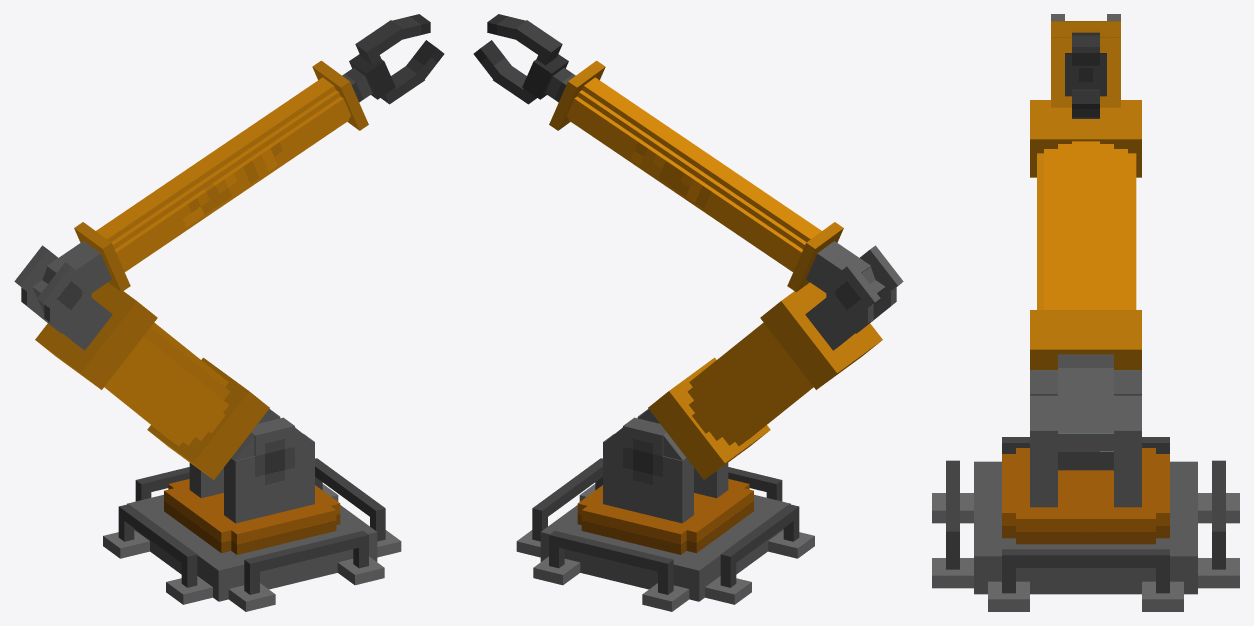
Rendered from robotic_arm.glb.
The picture shows the model from 3 angles, left to right: view 1: azimuth 30°, elevation 25°; view 2: azimuth 150°, elevation 25°; view 3: azimuth 270°, elevation 25°; orthographic projection. The views are drawn at different scales.
Parts seen in each view (by area): view 1: ed7dd5f0-c84b-96db-9e2d-be74453475f0_85, bf3b2753-134d-96d9-0a7a-4522231bf62c_29, 4066199f-02e0-932e-ad99-a19e7ac9ab1e_30, 225370fd-2aef-8ddd-597a-b3b095fe1d54_61, 3e71b660-b7e1-9f17-2043-0387880b704e_41, 57715747-db47-2d3b-6534-c7e8d5849a1b_84, 5269587a-8c7b-657e-d8dd-1f1d476868b8_49, 31f98e8d-f9ae-d522-5a96-47a43d8a7dc9_25, 93594bc2-2719-0e52-bed6-998e239a4943_44, 9afe81e2-e40a-ed8b-c7d3-e492ab492504_48, 7a19978f-e6b7-6603-5e67-01e708e58791_63, d332fa2d-546d-baee-27d2-611187f77992_36 (+25 smaller); view 2: ed7dd5f0-c84b-96db-9e2d-be74453475f0_85, b7e8eec0-5fb6-71fa-54fd-7f425dd8f181_28, 7688cb4f-a22a-53bc-e154-fbcb70b5f547_60, 4066199f-02e0-932e-ad99-a19e7ac9ab1e_30, 3e71b660-b7e1-9f17-2043-0387880b704e_41, 57715747-db47-2d3b-6534-c7e8d5849a1b_84, 5269587a-8c7b-657e-d8dd-1f1d476868b8_49, 31f98e8d-f9ae-d522-5a96-47a43d8a7dc9_25, 74f13842-3d2c-e4e8-0362-a20dec92ded2_45, 9afe81e2-e40a-ed8b-c7d3-e492ab492504_48, 7a19978f-e6b7-6603-5e67-01e708e58791_63, 5977282c-918c-d930-aba6-6fca59b7528c_40 (+25 smaller); view 3: ed7dd5f0-c84b-96db-9e2d-be74453475f0_85, 57715747-db47-2d3b-6534-c7e8d5849a1b_84, 5269587a-8c7b-657e-d8dd-1f1d476868b8_49, 3e71b660-b7e1-9f17-2043-0387880b704e_41, a63851c0-fdf8-5377-aedc-7993c49235ee_42, f0fa7784-e377-6a0e-1285-6437abd06d1b_47, 9afe81e2-e40a-ed8b-c7d3-e492ab492504_48, 4b586645-1a5e-889d-0b3f-f81bdd3c1efd_62, 21f3cca6-f026-9c7d-83c2-8842c7c30a40_51, 4e33c95f-f3f3-4307-173a-014842889009_72, 0a415039-4f03-2711-c8eb-b6a624d96d81_26, 7688cb4f-a22a-53bc-e154-fbcb70b5f547_60 (+25 smaller).
Part boxes in pixels (left/top/right/bottom): ed7dd5f0-c84b-96db-9e2d-be74453475f0_85: left=127, top=494, right=377, bottom=601; bf3b2753-134d-96d9-0a7a-4522231bf62c_29: left=115, top=96, right=350, bottom=269; 4066199f-02e0-932e-ad99-a19e7ac9ab1e_30: left=96, top=77, right=348, bottom=271; 225370fd-2aef-8ddd-597a-b3b095fe1d54_61: left=224, top=433, right=314, bottom=523; 3e71b660-b7e1-9f17-2043-0387880b704e_41: left=35, top=282, right=157, bottom=389; 57715747-db47-2d3b-6534-c7e8d5849a1b_84: left=168, top=479, right=336, bottom=554; 5269587a-8c7b-657e-d8dd-1f1d476868b8_49: left=147, top=357, right=269, bottom=479; 31f98e8d-f9ae-d522-5a96-47a43d8a7dc9_25: left=111, top=90, right=349, bottom=270; 93594bc2-2719-0e52-bed6-998e239a4943_44: left=123, top=344, right=225, bottom=433; 9afe81e2-e40a-ed8b-c7d3-e492ab492504_48: left=115, top=336, right=228, bottom=440; 7a19978f-e6b7-6603-5e67-01e708e58791_63: left=164, top=488, right=231, bottom=553; d332fa2d-546d-baee-27d2-611187f77992_36: left=52, top=294, right=112, bottom=350; ed7dd5f0-c84b-96db-9e2d-be74453475f0_85: left=540, top=494, right=790, bottom=601; b7e8eec0-5fb6-71fa-54fd-7f425dd8f181_28: left=567, top=96, right=802, bottom=269; 7688cb4f-a22a-53bc-e154-fbcb70b5f547_60: left=603, top=433, right=693, bottom=523; 4066199f-02e0-932e-ad99-a19e7ac9ab1e_30: left=569, top=77, right=821, bottom=271; 3e71b660-b7e1-9f17-2043-0387880b704e_41: left=760, top=282, right=882, bottom=389; 57715747-db47-2d3b-6534-c7e8d5849a1b_84: left=581, top=479, right=749, bottom=554; 5269587a-8c7b-657e-d8dd-1f1d476868b8_49: left=648, top=357, right=770, bottom=479; 31f98e8d-f9ae-d522-5a96-47a43d8a7dc9_25: left=568, top=90, right=806, bottom=270; 74f13842-3d2c-e4e8-0362-a20dec92ded2_45: left=692, top=344, right=794, bottom=433; 9afe81e2-e40a-ed8b-c7d3-e492ab492504_48: left=689, top=336, right=802, bottom=440; 7a19978f-e6b7-6603-5e67-01e708e58791_63: left=686, top=488, right=753, bottom=553; 5977282c-918c-d930-aba6-6fca59b7528c_40: left=805, top=293, right=865, bottom=350; ed7dd5f0-c84b-96db-9e2d-be74453475f0_85: left=974, top=461, right=1197, bottom=594; 57715747-db47-2d3b-6534-c7e8d5849a1b_84: left=1002, top=454, right=1169, bottom=538; 5269587a-8c7b-657e-d8dd-1f1d476868b8_49: left=1030, top=310, right=1141, bottom=370; 3e71b660-b7e1-9f17-2043-0387880b704e_41: left=1030, top=100, right=1141, bottom=177; a63851c0-fdf8-5377-aedc-7993c49235ee_42: left=1072, top=141, right=1099, bottom=309; f0fa7784-e377-6a0e-1285-6437abd06d1b_47: left=1058, top=144, right=1113, bottom=309; 9afe81e2-e40a-ed8b-c7d3-e492ab492504_48: left=1044, top=149, right=1127, bottom=309; 4b586645-1a5e-889d-0b3f-f81bdd3c1efd_62: left=1016, top=513, right=1155, bottom=544; 21f3cca6-f026-9c7d-83c2-8842c7c30a40_51: left=1058, top=354, right=1113, bottom=432; 4e33c95f-f3f3-4307-173a-014842889009_72: left=1016, top=549, right=1155, bottom=567; 0a415039-4f03-2711-c8eb-b6a624d96d81_26: left=1051, top=37, right=1120, bottom=107; 7688cb4f-a22a-53bc-e154-fbcb70b5f547_60: left=1114, top=430, right=1141, bottom=507.
Bounding box in the file's own units: 2.59 × 2.95 × 1.38.
1 material, 1 textured.
